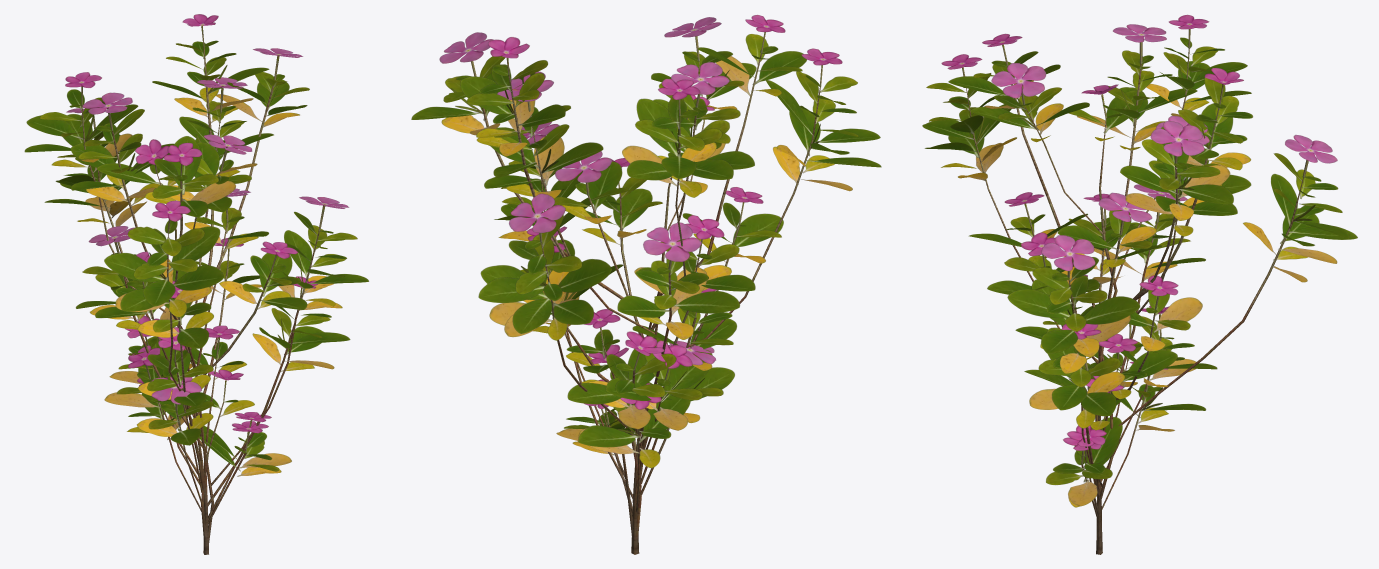
The model's file is periwinkle.glb.
3 views of the same model, side by side, from view 1: azimuth 30°, elevation 25°; view 2: azimuth 150°, elevation 25°; view 3: azimuth 270°, elevation 25° (orthographic). The views are drawn at different scales.
Visible parts, largest first — view 1: periwinkle_plant_01_LOD4, periwinkle_plant_02_LOD4, periwinkle_plant_03_LOD4, periwinkle_plant_04_LOD4, periwinkle_plant_05_LOD4, periwinkle_plant_06_LOD4; view 2: periwinkle_plant_01_LOD4, periwinkle_plant_02_LOD4, periwinkle_plant_03_LOD4, periwinkle_plant_04_LOD4, periwinkle_plant_05_LOD4, periwinkle_plant_06_LOD4; view 3: periwinkle_plant_01_LOD4, periwinkle_plant_02_LOD4, periwinkle_plant_03_LOD4, periwinkle_plant_04_LOD4, periwinkle_plant_05_LOD4, periwinkle_plant_06_LOD4.
Part boxes in pixels (left/top/right/bottom): periwinkle_plant_01_LOD4: left=24, top=72, right=368, bottom=542; periwinkle_plant_02_LOD4: left=70, top=14, right=350, bottom=508; periwinkle_plant_03_LOD4: left=95, top=188, right=307, bottom=554; periwinkle_plant_04_LOD4: left=109, top=238, right=281, bottom=544; periwinkle_plant_05_LOD4: left=127, top=325, right=246, bottom=541; periwinkle_plant_06_LOD4: left=137, top=369, right=254, bottom=543; periwinkle_plant_01_LOD4: left=478, top=17, right=881, bottom=535; periwinkle_plant_02_LOD4: left=411, top=15, right=806, bottom=507; periwinkle_plant_03_LOD4: left=553, top=151, right=755, bottom=554; periwinkle_plant_04_LOD4: left=523, top=187, right=783, bottom=544; periwinkle_plant_05_LOD4: left=566, top=288, right=736, bottom=540; periwinkle_plant_06_LOD4: left=582, top=341, right=734, bottom=541; periwinkle_plant_01_LOD4: left=922, top=14, right=1357, bottom=548; periwinkle_plant_02_LOD4: left=948, top=24, right=1252, bottom=510; periwinkle_plant_03_LOD4: left=987, top=192, right=1184, bottom=554; periwinkle_plant_04_LOD4: left=968, top=192, right=1217, bottom=530; periwinkle_plant_05_LOD4: left=1015, top=274, right=1205, bottom=509; periwinkle_plant_06_LOD4: left=1024, top=356, right=1128, bottom=481.
Bounding box in the file's own units: 0.269 × 0.4105 × 0.3283.
Materials: 1 (1 with a texture image).
